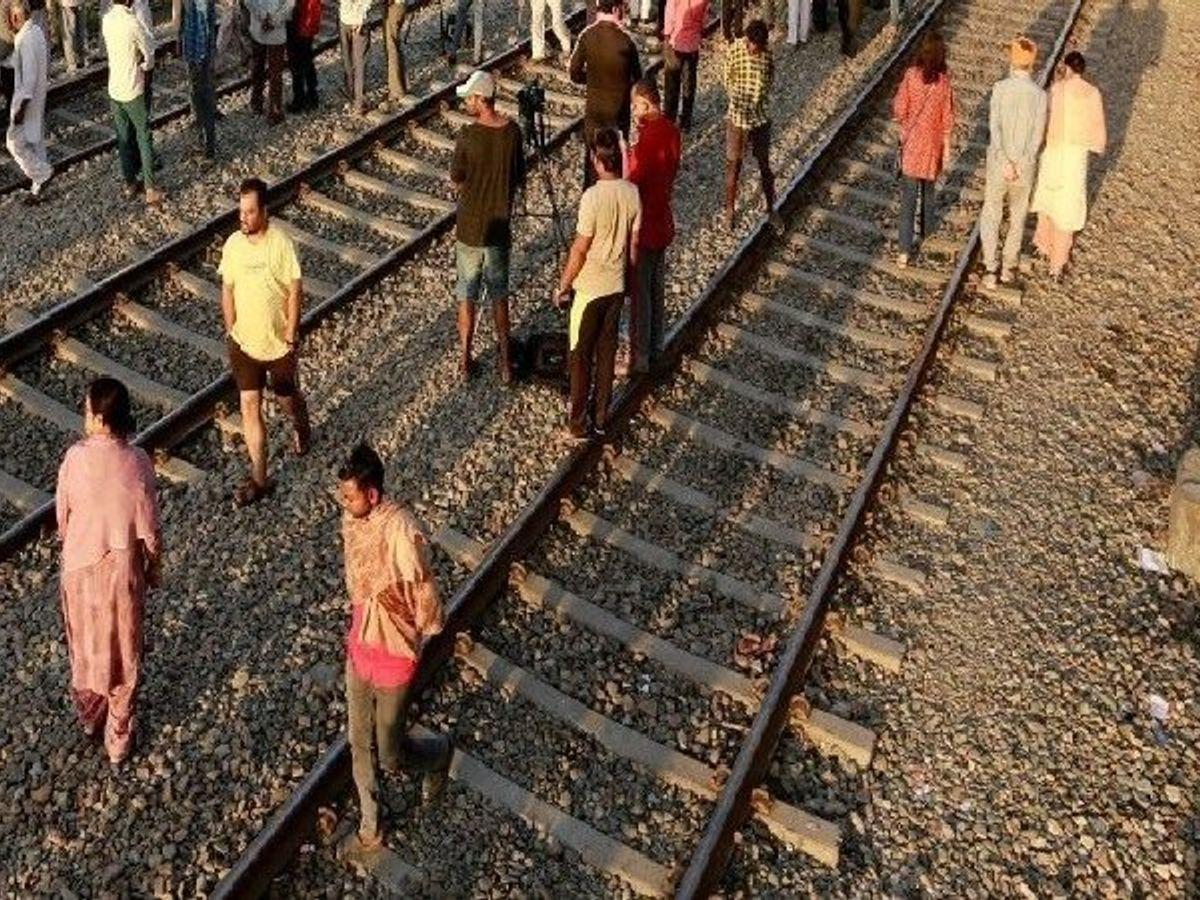person: (331, 440, 443, 861), (51, 368, 164, 771), (207, 172, 316, 514), (551, 130, 644, 445), (445, 64, 526, 393), (977, 38, 1050, 289), (625, 70, 681, 389), (1034, 48, 1106, 283), (889, 30, 959, 267), (719, 16, 791, 243), (99, 0, 171, 206), (1, 0, 60, 209), (1116, 188, 1117, 189)
